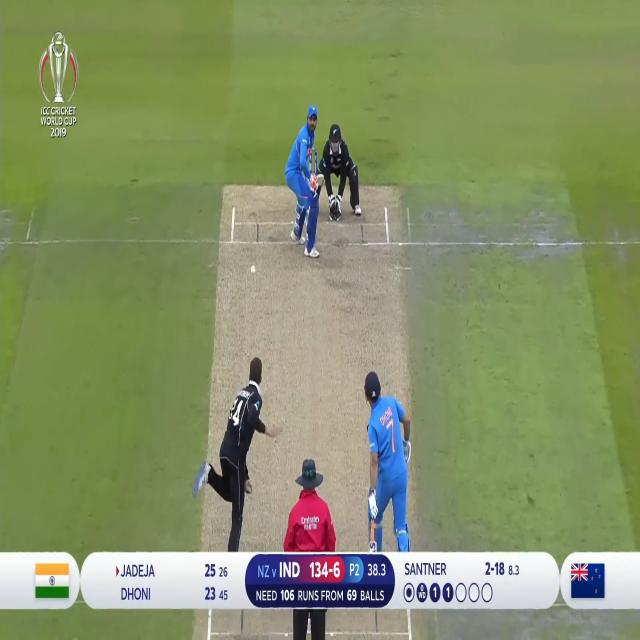ball: (249, 260, 256, 280)
